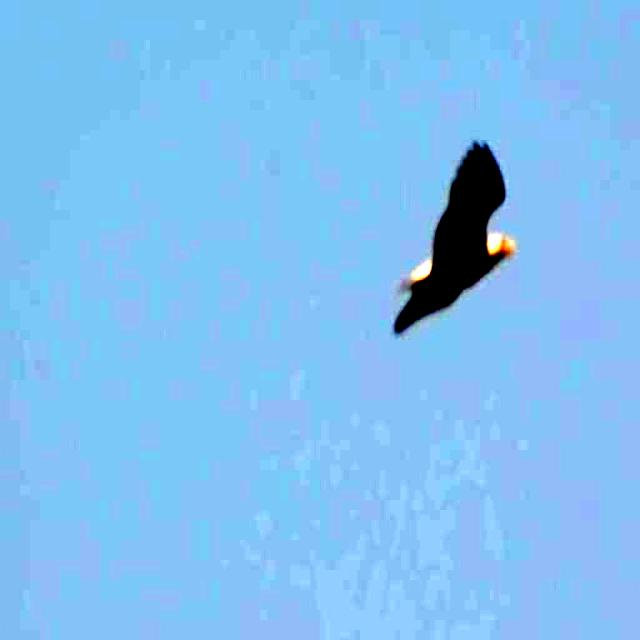airplane: (392, 131, 528, 352)
